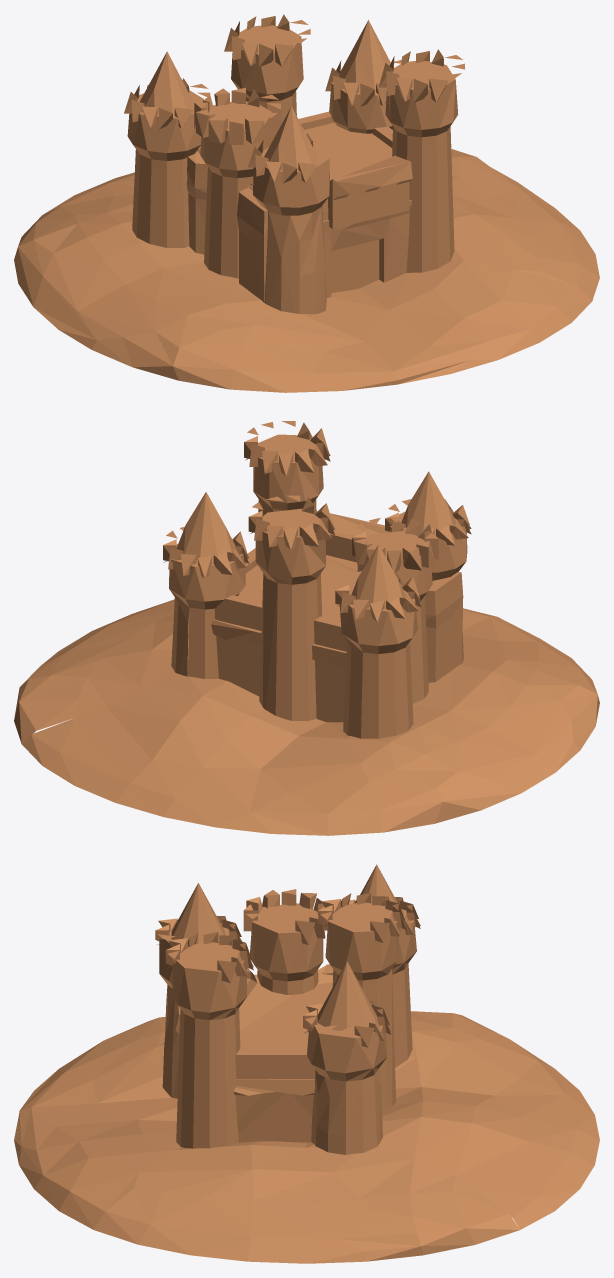
File: kumkale.glb
3 views of the same model, one above another, from view 1: azimuth 30°, elevation 25°; view 2: azimuth 150°, elevation 25°; view 3: azimuth 270°, elevation 25° (orthographic). The views are drawn at different scales.
Parts seen in each view (by area): view 1: Node; view 2: Node; view 3: Node.
Part boxes in pixels (x1,y1,x2,y2): Node: (14, 14, 599, 392); Node: (14, 421, 599, 835); Node: (14, 864, 599, 1263).
Bounding box in the file's own units: 41.18 × 17.52 × 41.18.
